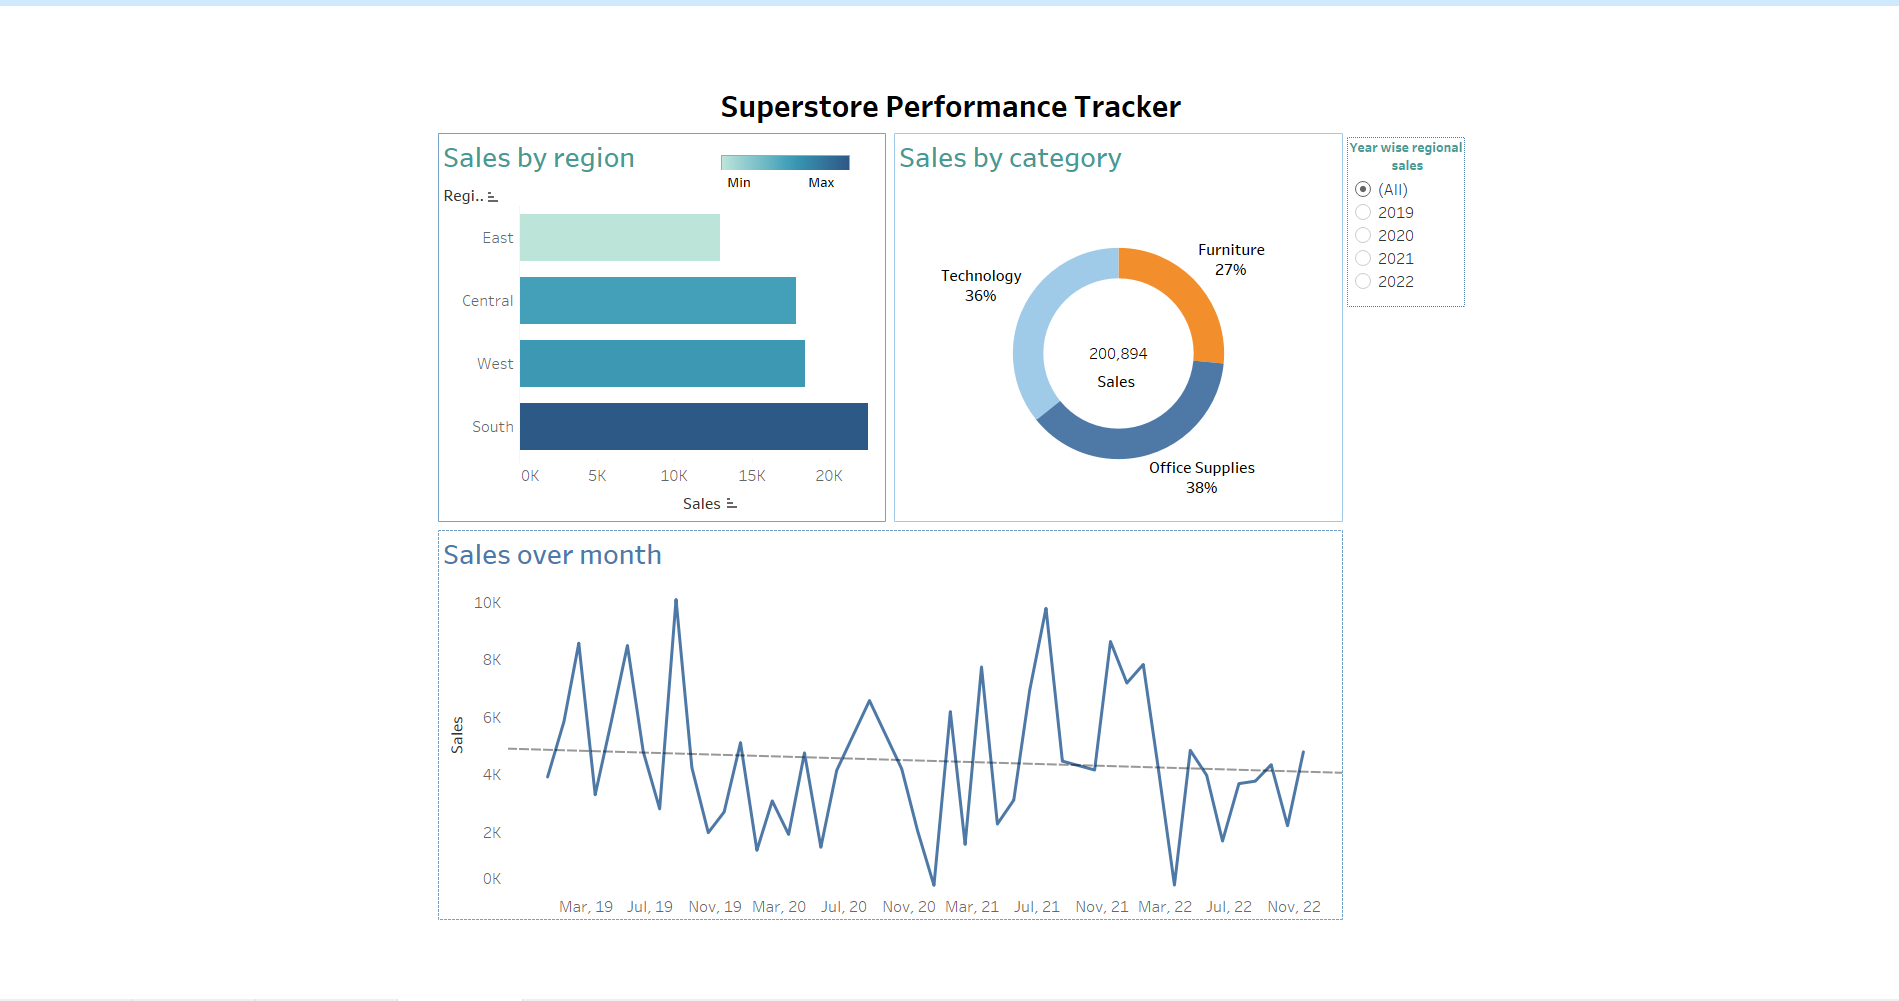

The page's visual inventory and layout, read from the dashboard file:
{"tool":"tableau","page":{"name":"Dashboard 1","canvas":[1000,1000],"units":"permille","ordinal":0},"visuals":[{"type":"title","box":[7.6,10,984.8,61.1]},{"type":"worksheet","title":"Sales by region","mark":"Automatic","rows":["Region"],"cols":["Sales"],"box":[7.6,71.1,434.7,459.4]},{"type":"worksheet","title":"Sales by category","mark":"Pie","rows":["Calculation_1081145428199280641","Calculation_1081145428199325699"],"box":[442.4,71.1,434.8,459.4]},{"type":"filter","title":"Sales by region","param":"[federated.1qdwrc21vo4kfx10lnhe60ekssp1].[yr:Order Date:ok]","box":[877.1,76.1,112.4,198.2]},{"type":"legend","title":"Sales by region","param":"[federated.1qdwrc21vo4kfx10lnhe60ekssp1].[sum:Sales:qk]","box":[276.8,92.3,130.5,22.4]},{"type":"text","box":[284.2,117.2,50.5,21.2]},{"type":"text","box":[361.1,117.2,53.7,21.2]},{"type":"text","box":[636.2,345.4,53.3,27.4]},{"type":"worksheet","title":"Sales over month","mark":"Automatic","rows":["Sales"],"cols":["Order Date"],"box":[7.6,530.4,869.5,459.6]}]}

Visuals, with their boxes on the dashboard's canvas, which has no fixed pixel size, in thousandths of its width and height (x1, y1, x2, y2). These are canvas units, not pixel positions in the 1899x1001 screenshot, which may show the page scaled, cropped or inside an application window:
title: (8,10,992,71)
"Sales by region" worksheet: (8,71,442,530)
"Sales by category" worksheet (Pie marks): (442,71,877,530)
"Sales by region" filter: (877,76,990,274)
"Sales by region" legend: (277,92,407,115)
text: (284,117,335,138)
text: (361,117,415,138)
text: (636,345,690,373)
"Sales over month" worksheet: (8,530,877,990)
